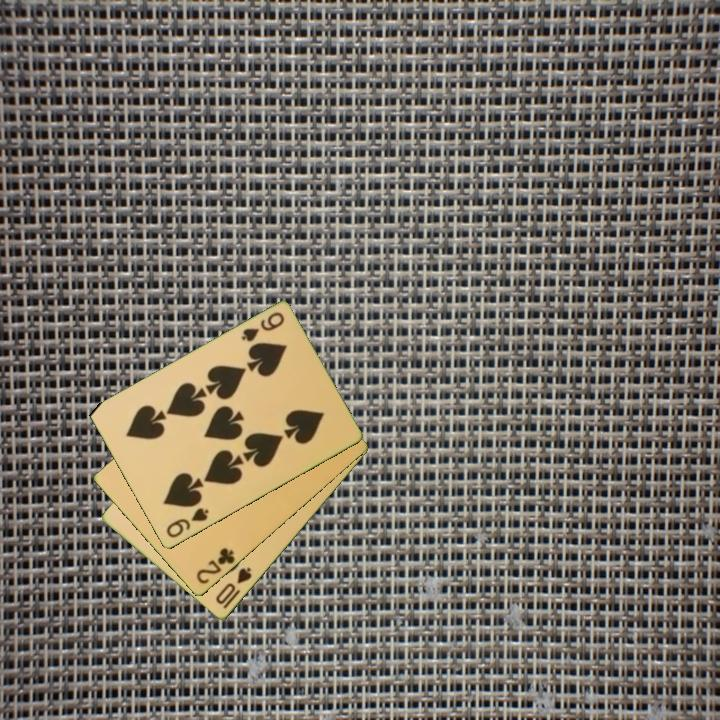10s: (212, 564, 255, 612)
2c: (193, 544, 238, 587)
9s: (162, 504, 212, 541), (237, 309, 287, 345)
